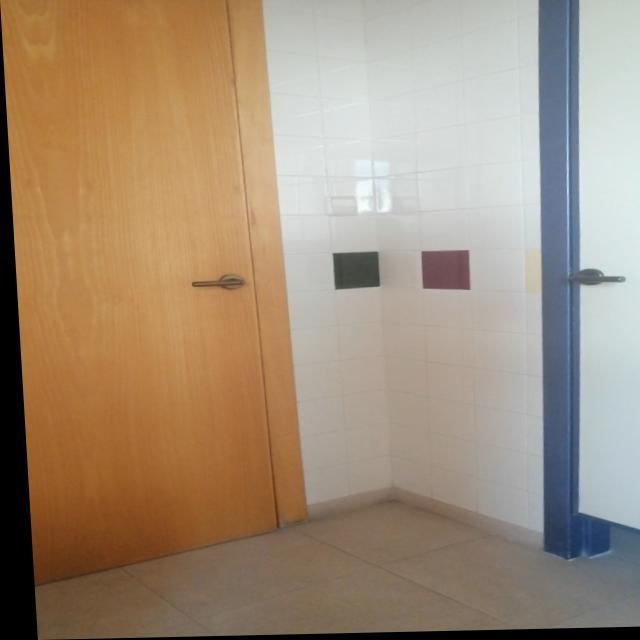door_handle: (561, 276, 626, 288), (184, 279, 244, 289)
